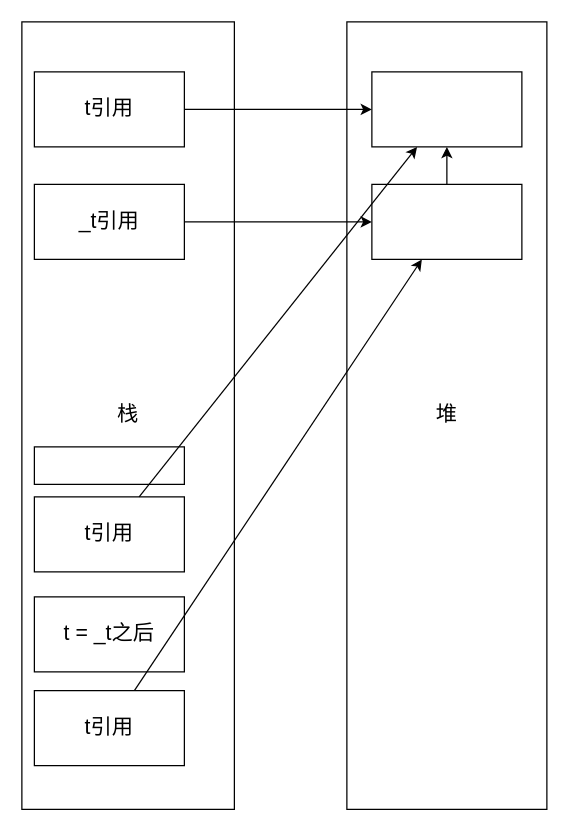
The diagram is 569 pixels wide and 831 high, and some of its shapes have lost their labels. Each missing label, with the centre of its shape:
_t对象: (x=446, y=221)
test2方法内: (x=108, y=465)
t对象: (x=446, y=109)
